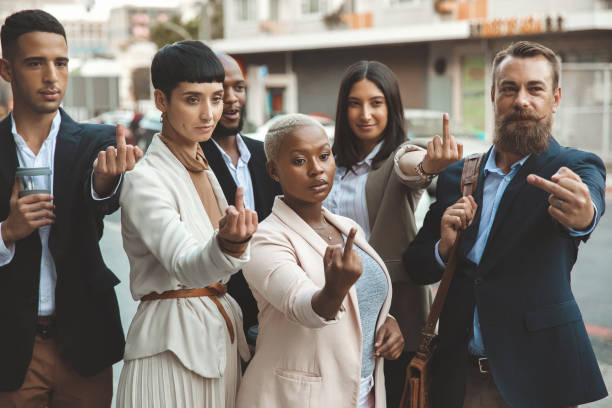insulting_gesture: (522, 164, 595, 234), (318, 226, 365, 311), (90, 118, 142, 191), (216, 184, 258, 259), (422, 112, 466, 175)
